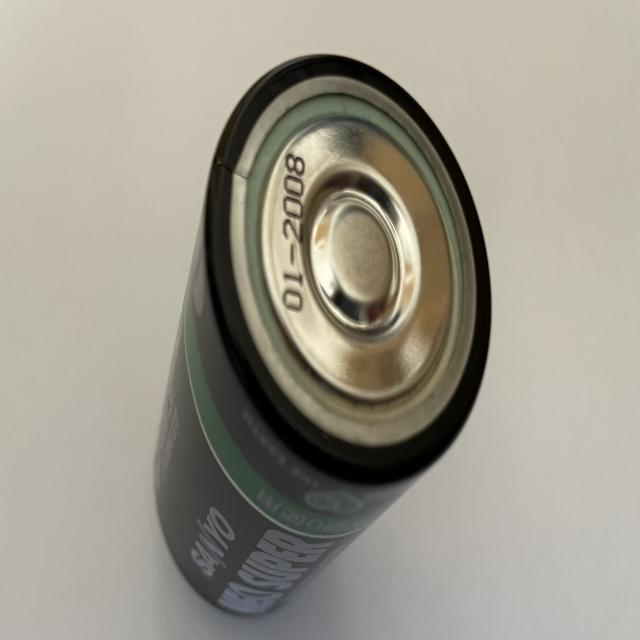Hazard: (151, 52, 493, 626)
